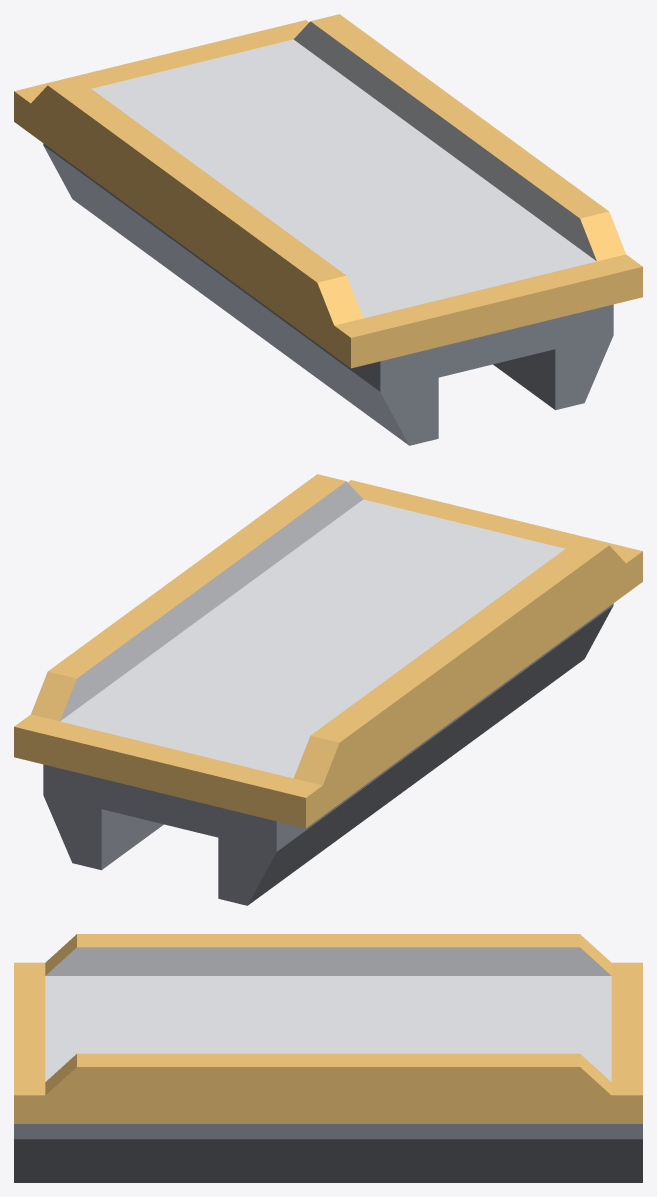
The model's file is monorail_trainFlat.glb.
3 renders of one model, top to bottom at view 1: azimuth 30°, elevation 25°; view 2: azimuth 150°, elevation 25°; view 3: azimuth 270°, elevation 25°, orthographic. The views are drawn at different scales.
Visible parts, largest first — view 1: monorail_trainFlat; view 2: monorail_trainFlat; view 3: monorail_trainFlat.
Part boxes in pixels (x1,y1,x2,y2): monorail_trainFlat: [14, 14, 642, 445]; monorail_trainFlat: [14, 474, 642, 905]; monorail_trainFlat: [14, 934, 642, 1182].
Size of the model in its own units: 0.5 by 0.25 by 1.
